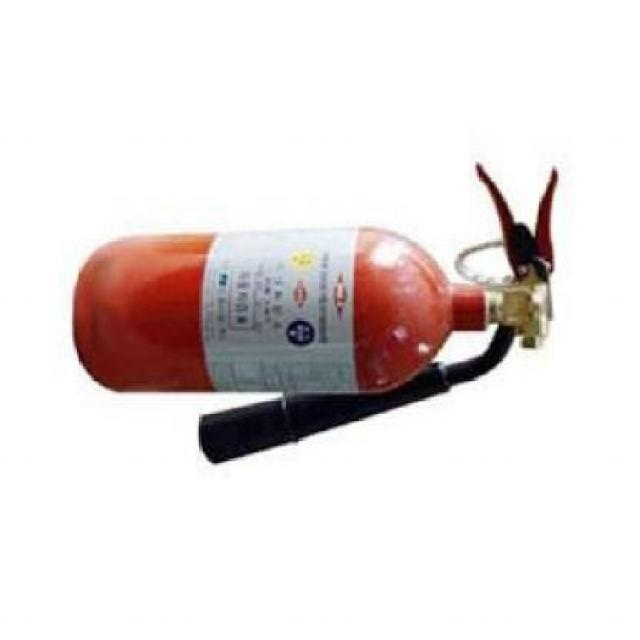fire extinguisher: (71, 163, 560, 465)
